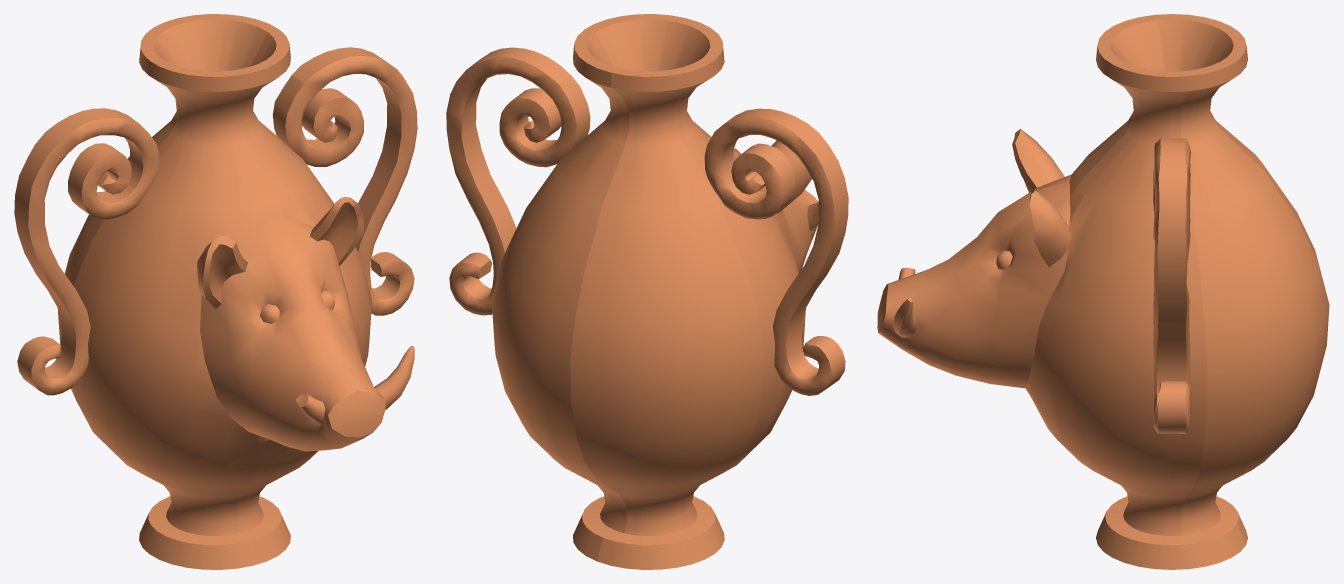
Rendered from SM_Boar_Cup_1.fbx.
The picture shows the model from 3 angles, left to right: view 1: azimuth 30°, elevation 25°; view 2: azimuth 150°, elevation 25°; view 3: azimuth 270°, elevation 25°; orthographic projection.
Parts seen in each view (by area): view 1: SM_Boar_Cup_1; view 2: SM_Boar_Cup_1; view 3: SM_Boar_Cup_1.
Part boxes in pixels (x1,y1,x2,y2): SM_Boar_Cup_1: (14, 14, 417, 569); SM_Boar_Cup_1: (446, 14, 848, 569); SM_Boar_Cup_1: (877, 14, 1329, 569).
Size of the model in its own units: 0.4973 by 0.6018 by 0.5009.
